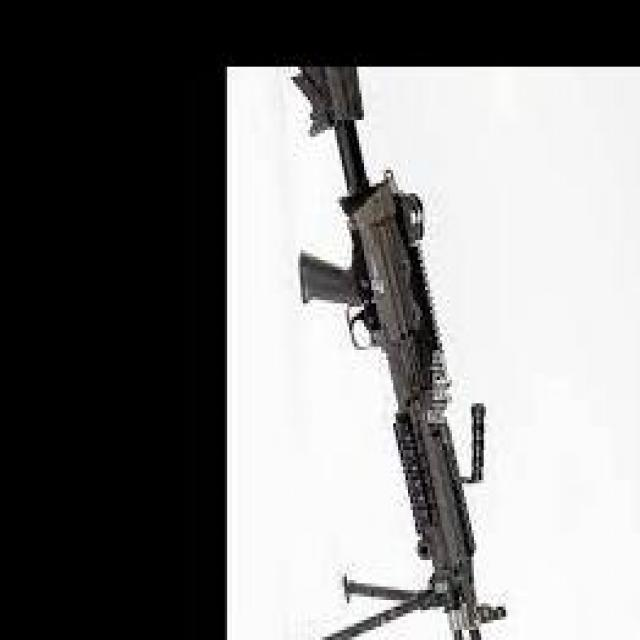weapon: (289, 66, 508, 640)
